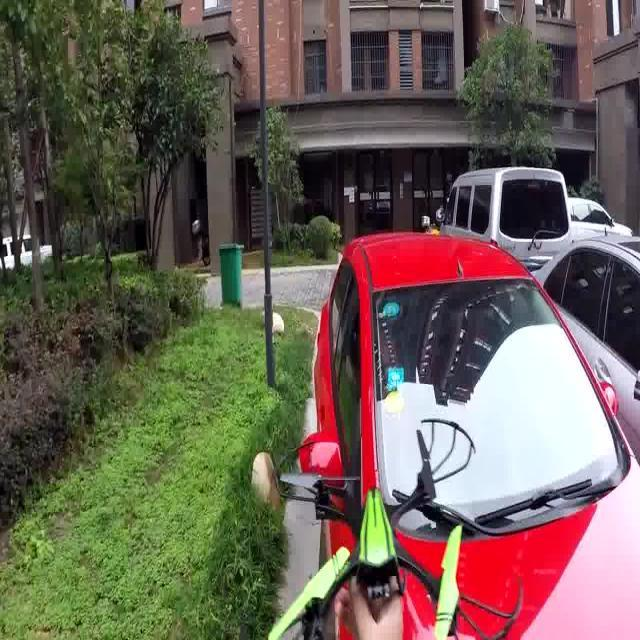drone: (262, 414, 524, 638)
